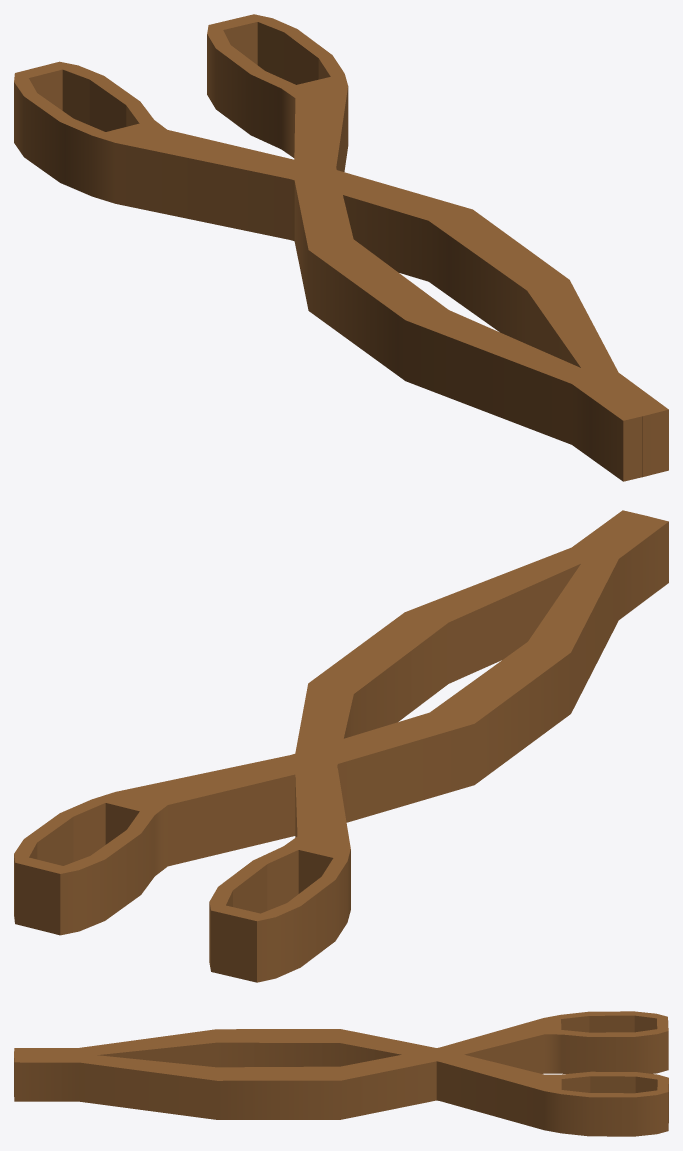
Rendered from Pliers.fbx.
3 renders of one model, top to bottom at view 1: azimuth 30°, elevation 25°; view 2: azimuth 150°, elevation 25°; view 3: azimuth 270°, elevation 25°, orthographic. The views are drawn at different scales.
Visible parts, largest first — view 1: polySurface8, polySurface7; view 2: polySurface7, polySurface8; view 3: polySurface8, polySurface7.
Part boxes in pixels (x1=…): polySurface8: x1=14, y1=61, x2=668, y2=477; polySurface7: x1=207, y1=14, x2=650, y2=481; polySurface7: x1=14, y1=515, x2=668, y2=935; polySurface8: x1=209, y1=510, x2=649, y2=982; polySurface8: x1=14, y1=1011, x2=668, y2=1119; polySurface7: x1=14, y1=1029, x2=668, y2=1136.
Bounding box in the file's own units: 10.31 × 2.19 × 33.18.
